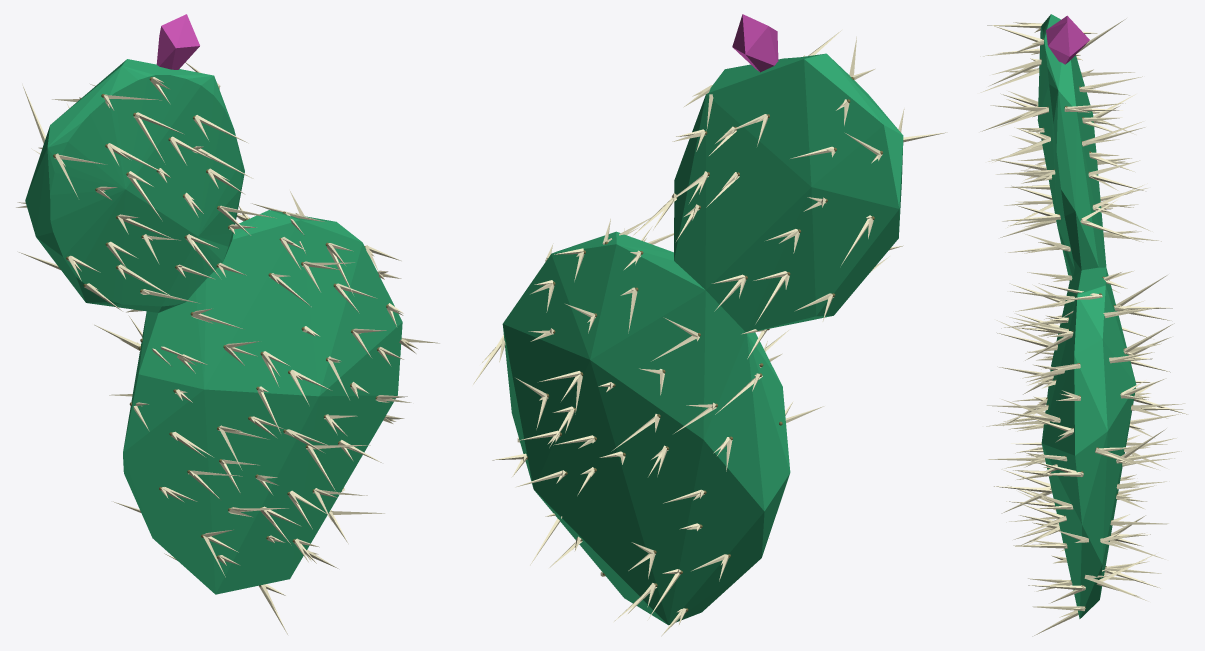
File: Cactus_Small.fbx
3 renders of one model, left to right at view 1: azimuth 30°, elevation 25°; view 2: azimuth 150°, elevation 25°; view 3: azimuth 270°, elevation 25°, orthographic. The views are drawn at different scales.
Visible parts, largest first — view 1: Cactus_Small; view 2: Cactus_Small; view 3: Cactus_Small.
Boxes of the visible parts, x1,y1,x2,y2 form: Cactus_Small: (16,14,439,634); Cactus_Small: (472,14,947,636); Cactus_Small: (980,14,1187,636).
Size of the model in its own units: 51.1 by 77.26 by 25.91.
